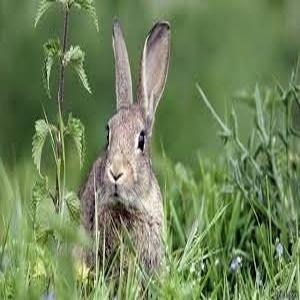rabbit: (80, 19, 170, 268)
